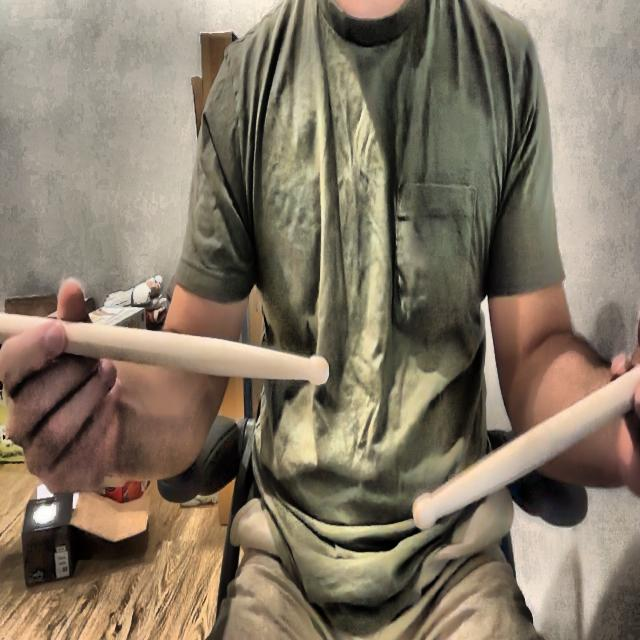Drumstick-Heads: (409, 485, 439, 536), (306, 350, 330, 390)
